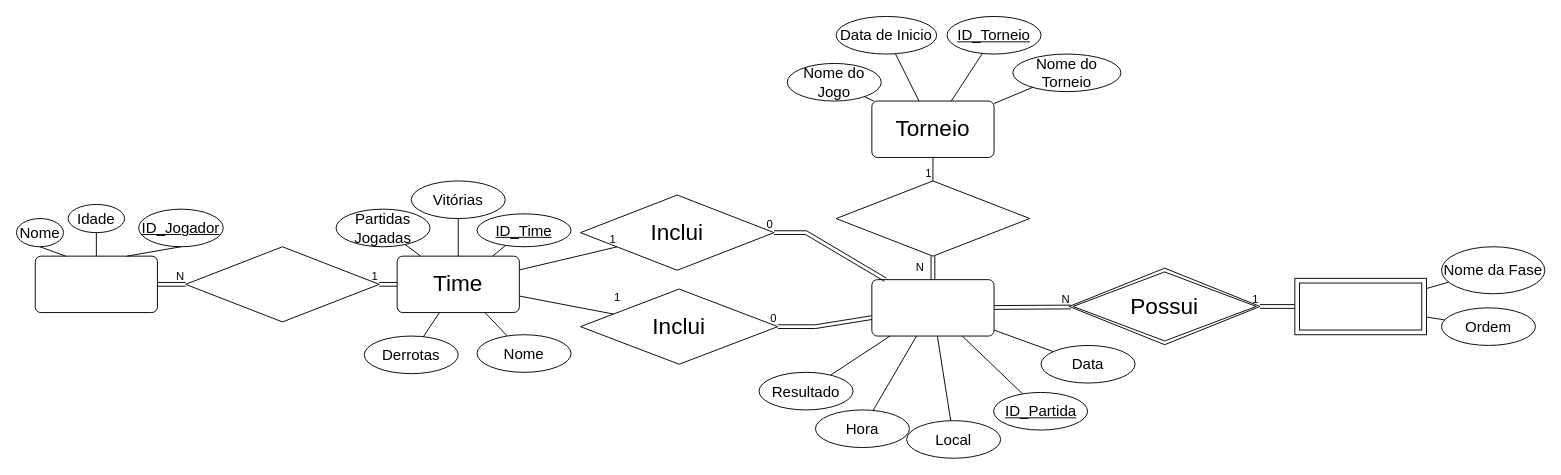
Image size: 1561x475. Some labels were removed from this diagram. The shapes that lost their labels are listed below. From the top down, each one's box as (x1, y1, x2, y2) in pixels, then its label:
(835, 180, 1030, 256): Faz Parte de
(34, 255, 157, 313): Jogador
(185, 246, 379, 322): Pertence a
(871, 279, 994, 336): Partida
(1294, 277, 1426, 335): Fase
